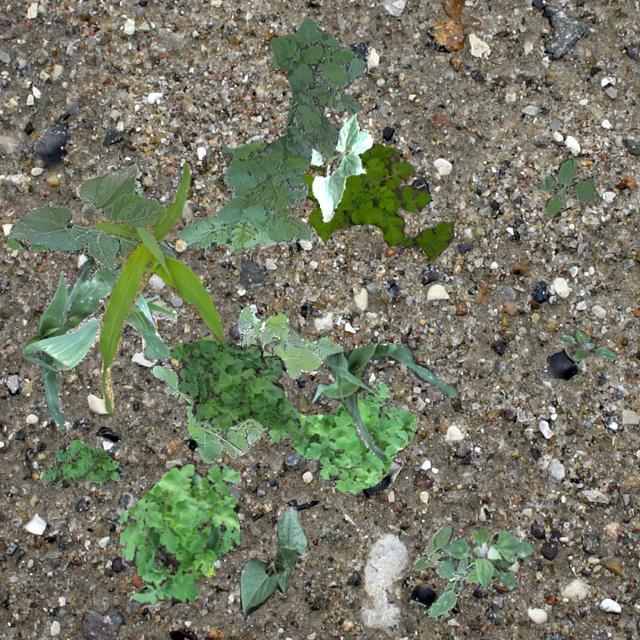crop: (94, 162, 224, 412), (22, 269, 156, 426), (4, 160, 176, 268), (310, 340, 460, 460), (102, 187, 176, 360), (238, 504, 308, 616), (58, 250, 154, 328), (308, 110, 372, 220)
weed: (175, 18, 362, 252), (150, 306, 342, 462), (298, 142, 452, 258), (264, 376, 414, 494), (117, 462, 240, 604), (168, 336, 302, 434), (412, 520, 478, 616), (440, 528, 532, 588), (41, 438, 122, 486), (540, 156, 600, 218), (554, 328, 616, 359), (223, 193, 229, 200)
